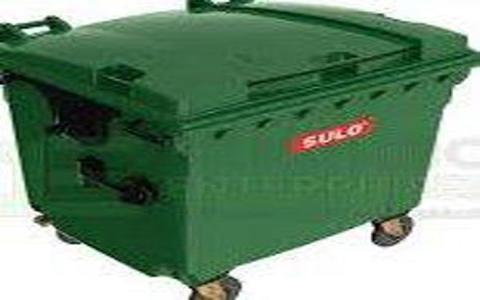Proper garbage: (1, 1, 476, 297)
